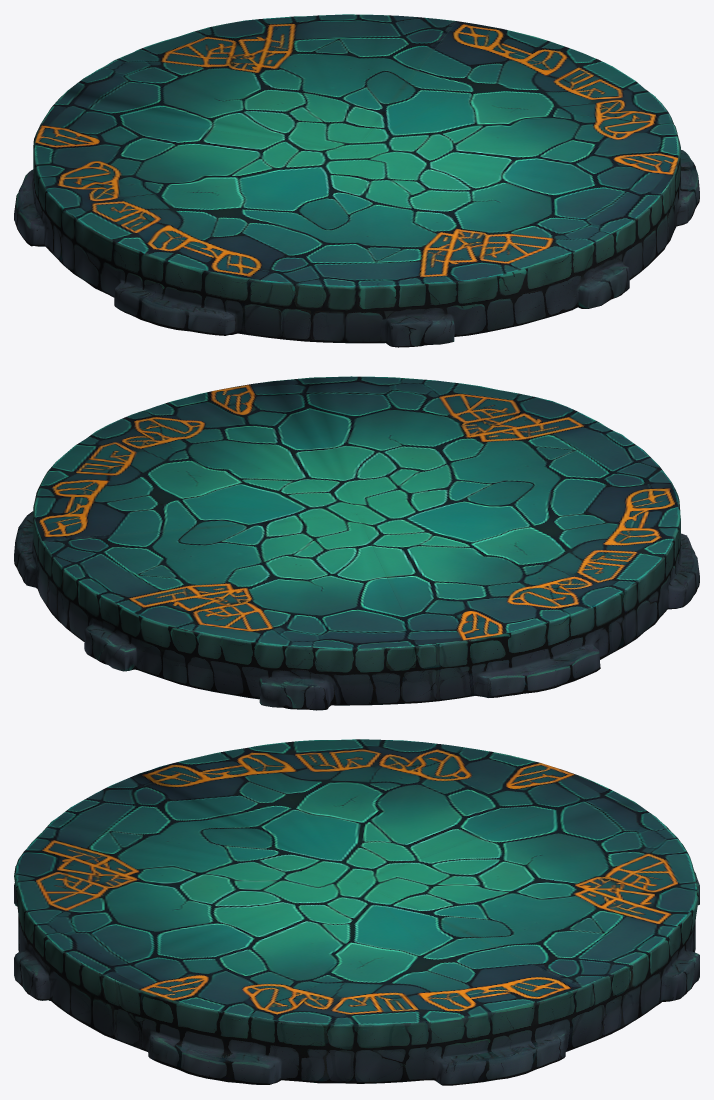
The model's file is Meshy_AI_Ember_lit_Circular_St_0402224201_texture.fbx.
The picture shows the model from 3 angles, top to bottom: view 1: azimuth 30°, elevation 25°; view 2: azimuth 150°, elevation 25°; view 3: azimuth 270°, elevation 25°; orthographic projection. The views are drawn at different scales.
Visible parts, largest first — view 1: Mesh_0; view 2: Mesh_0; view 3: Mesh_0.
Boxes of the visible parts, <box> form: Mesh_0: <box>14,14,699,347</box>; Mesh_0: <box>14,376,699,710</box>; Mesh_0: <box>14,739,699,1085</box>.
Bounding box in the file's own units: 190 × 18 × 190.
Materials: 1 (1 with a texture image).
